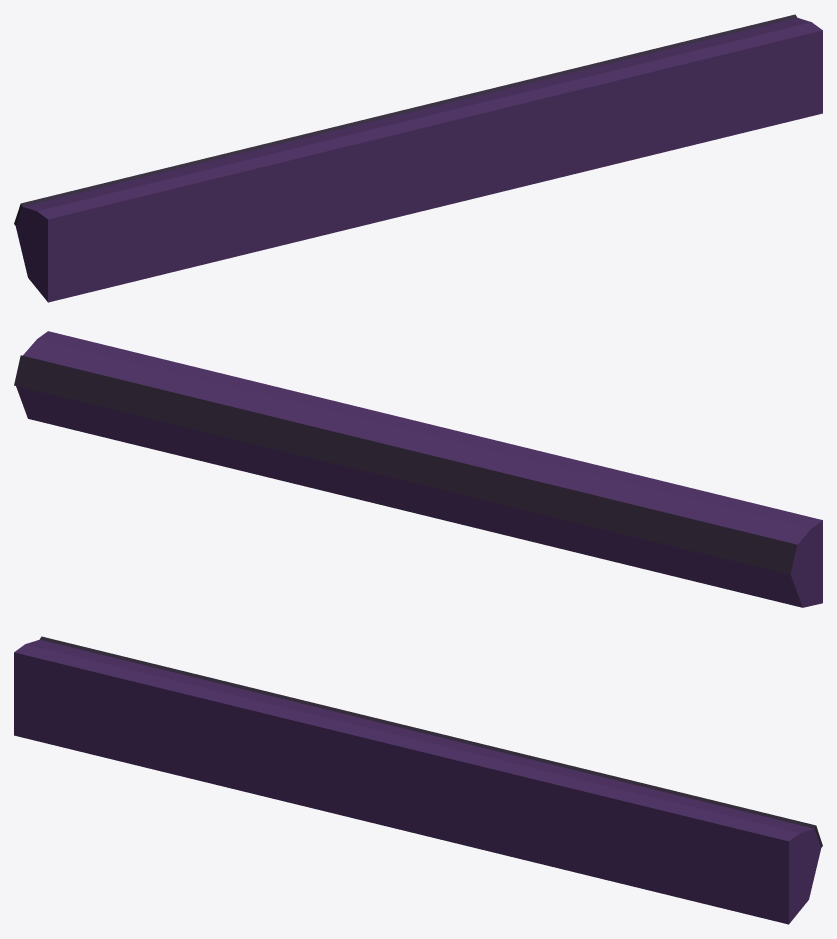
File: SM_SB_Kit_AlienWindowSill.fbx
3 views of the same model, one above another, from view 1: azimuth 30°, elevation 25°; view 2: azimuth 150°, elevation 25°; view 3: azimuth 330°, elevation 25° (orthographic).
Visible parts, largest first — view 1: SM_SB_Kit_AlienWindowSill; view 2: SM_SB_Kit_AlienWindowSill; view 3: SM_SB_Kit_AlienWindowSill.
Part boxes in pixels (x1=…): SM_SB_Kit_AlienWindowSill: x1=14, y1=14, x2=822, y2=302; SM_SB_Kit_AlienWindowSill: x1=14, y1=331, x2=822, y2=607; SM_SB_Kit_AlienWindowSill: x1=14, y1=636, x2=822, y2=924.
Size of the model in its own units: 800 by 61 by 82.
